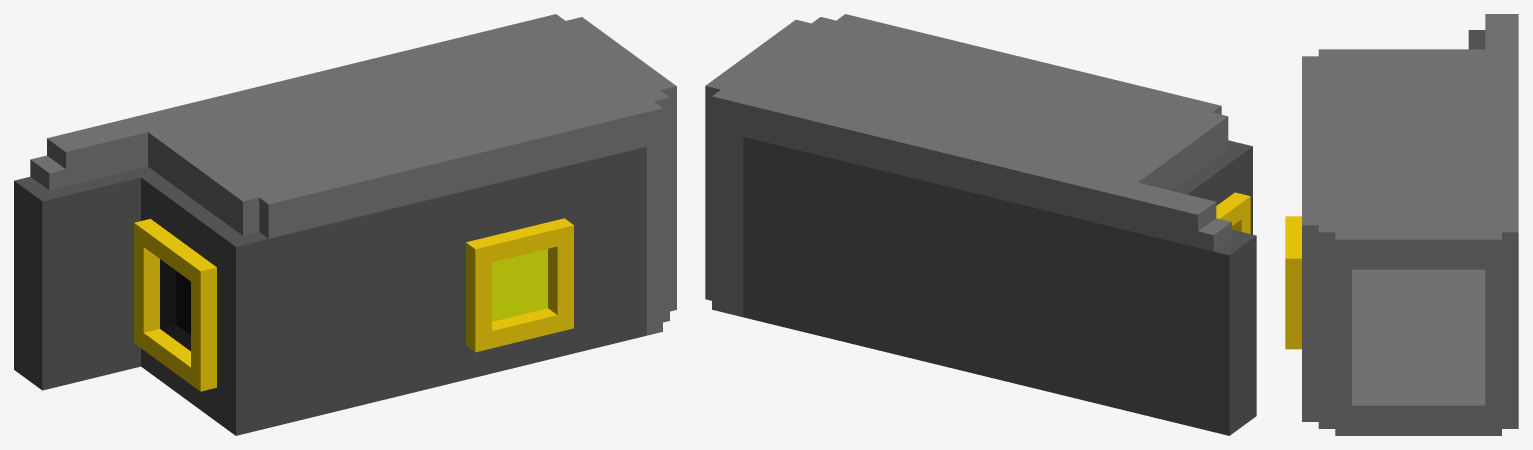
Rendered from RbtArm.obj.
3 views of the same model, side by side, from view 1: azimuth 30°, elevation 25°; view 2: azimuth 150°, elevation 25°; view 3: azimuth 270°, elevation 25° (orthographic). The views are drawn at different scales.
Bounding box in the file's own units: 34 × 13 × 14.
1 material, 1 textured.
